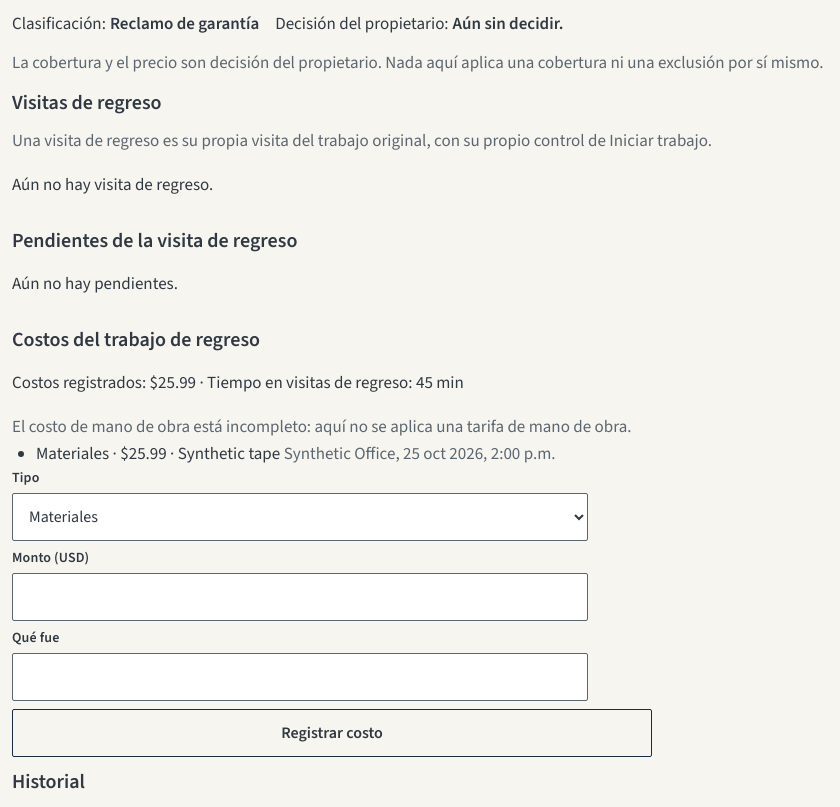
Test: [HH-QA-07][FACT-WARRANTY] the return work of a case › [HH-FIN-17][RULE-MONEY-CENTS] records a cost in integer cents; a refusal is named, in Spanish
(page scrolled)
Type "12.50" into the field labelled "Monto (USD)".
click(300, 597); type("12.50")  # box [12,573,588,621]
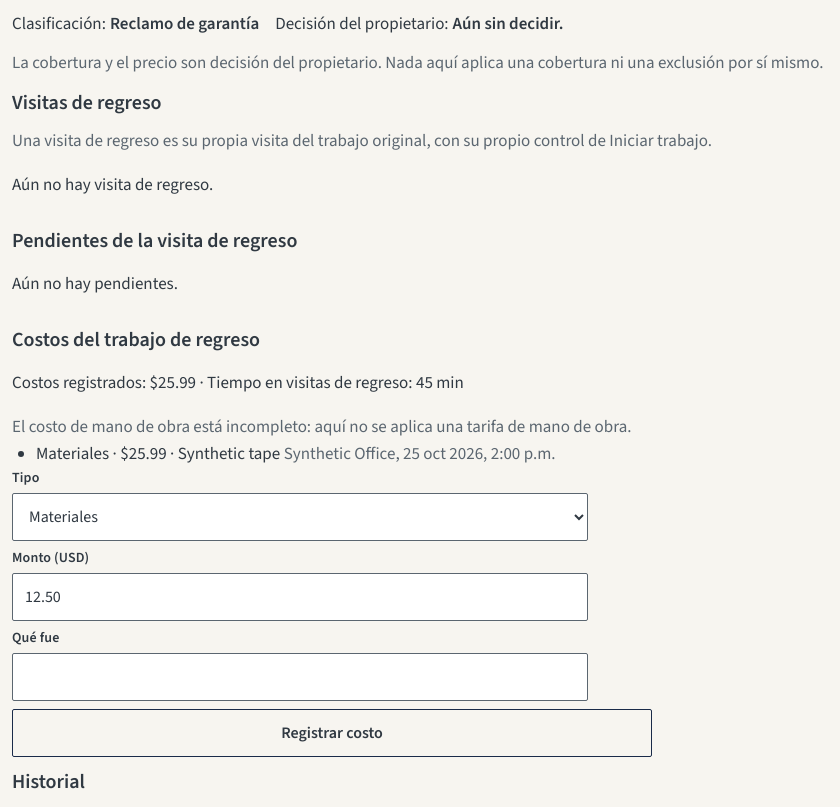
Type "Sintético" into the field labelled "Qué fue".
click(300, 677); type("Sintético")  # box [12,653,588,701]
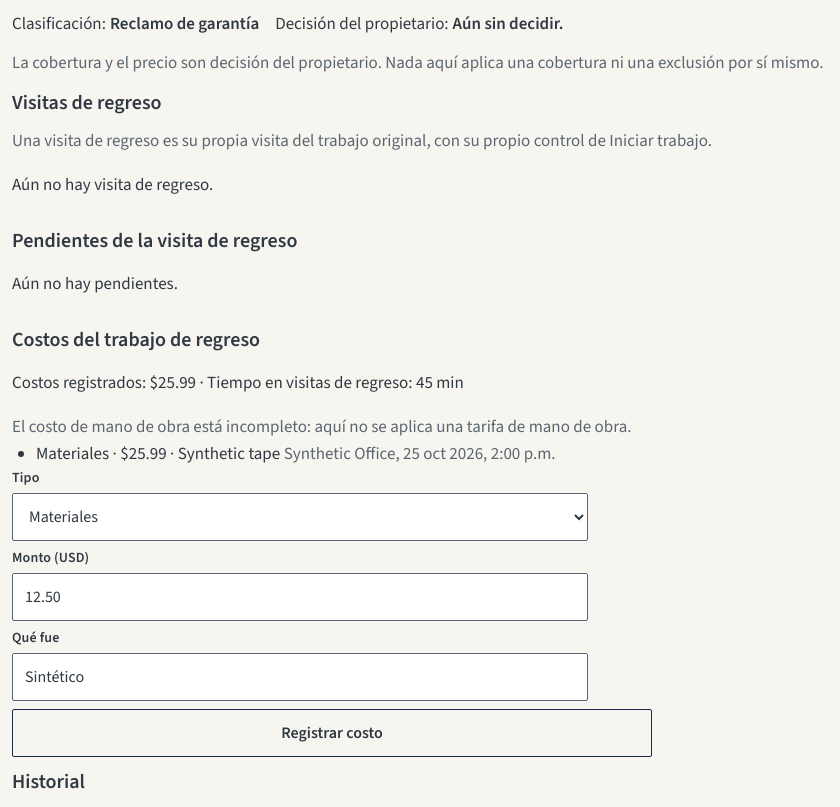
Click the button "Registrar costo".
click(332, 733)  # box [12,709,652,757]
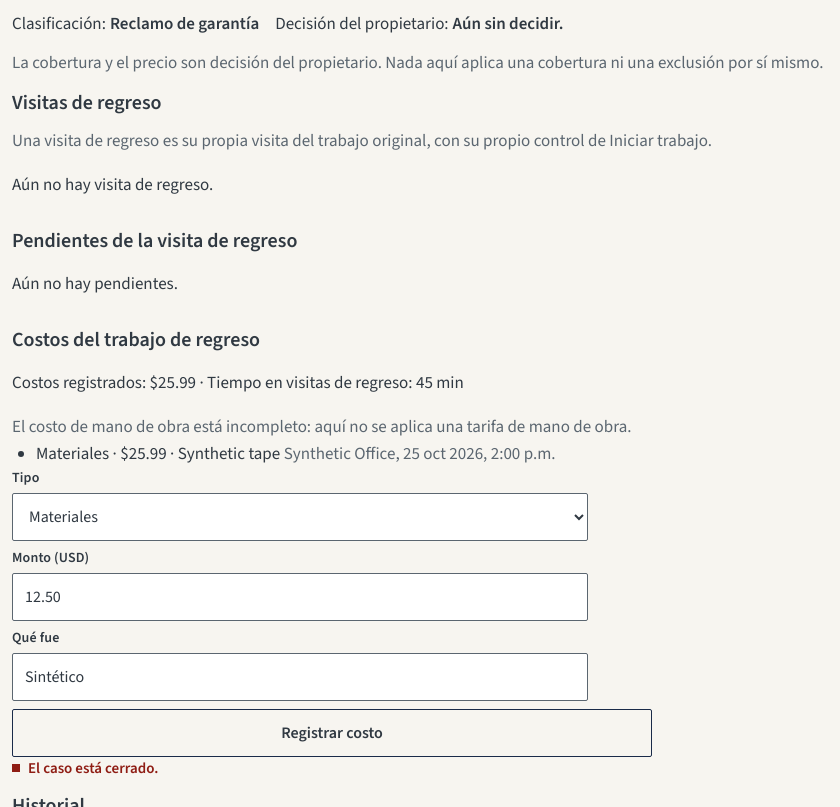
Expected: the message "El caso está cerrado." is shown, [28,758,158,779]
